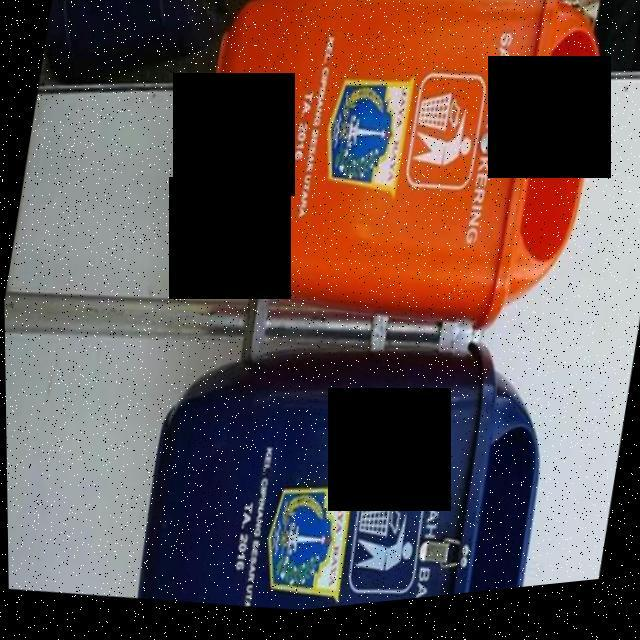bin: (153, 0, 640, 406), (123, 291, 581, 630)
